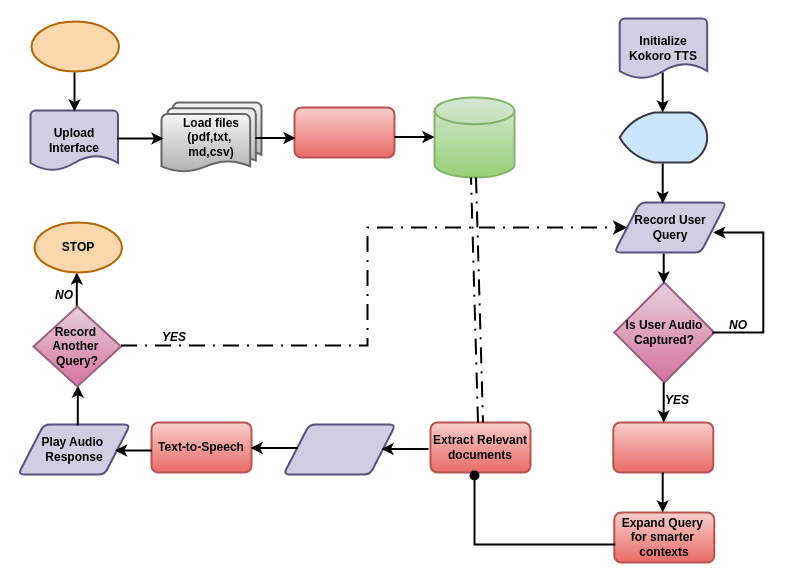
This 790x580 diagram has some shape labels left out. Here are the shapes that lost their labels. From the top down, the centre of each, then its label:
At point (75, 46): "START".
At point (344, 132): "Process Loaded Files (i.e. Chunking)".
At point (474, 137): "Build Vector Knowledge Base".
At point (663, 137): "Select Voice".
At point (339, 449): "Generate & Display Response".
At point (663, 447): "Transcribe User Query".
